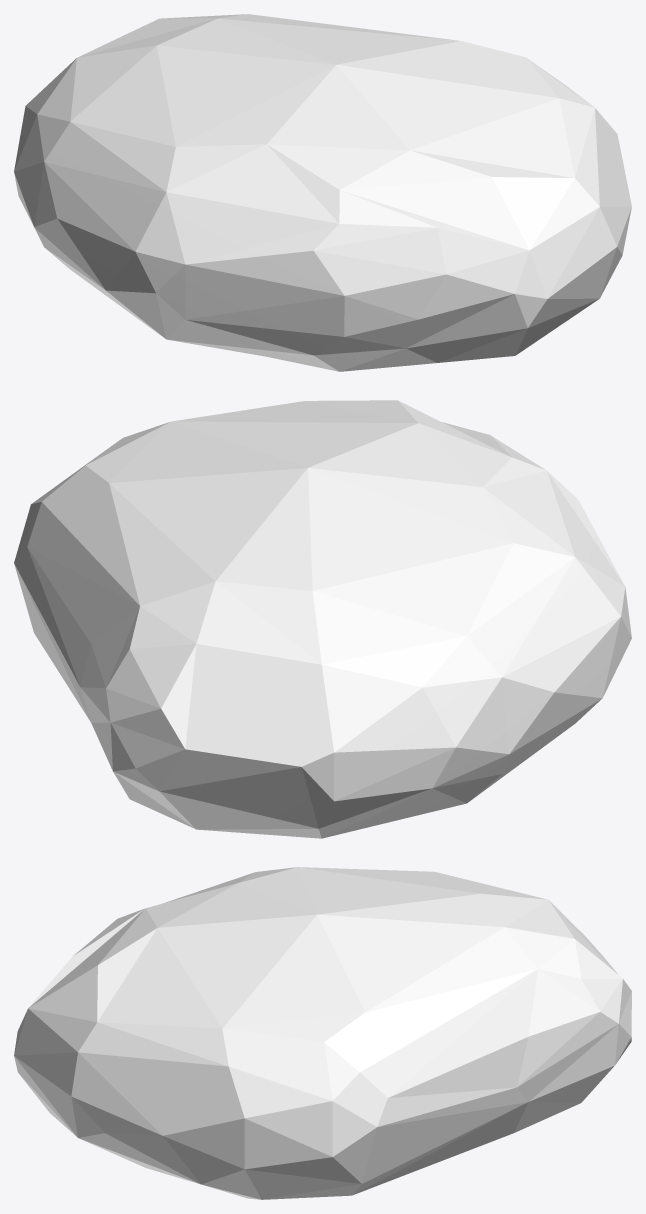
Rendered from Rock 13.FBX.
3 views of the same model, one above another, from view 1: azimuth 30°, elevation 25°; view 2: azimuth 150°, elevation 25°; view 3: azimuth 270°, elevation 25° (orthographic). The views are drawn at different scales.
Visible parts, largest first — view 1: Box001; view 2: Box001; view 3: Box001.
Boxes of the visible parts, x1=… form: Box001: x1=14, y1=14, x2=631, y2=371; Box001: x1=14, y1=400, x2=631, y2=838; Box001: x1=14, y1=867, x2=631, y2=1199.
Bounding box in the file's own units: 25.17 × 12.32 × 29.02.
